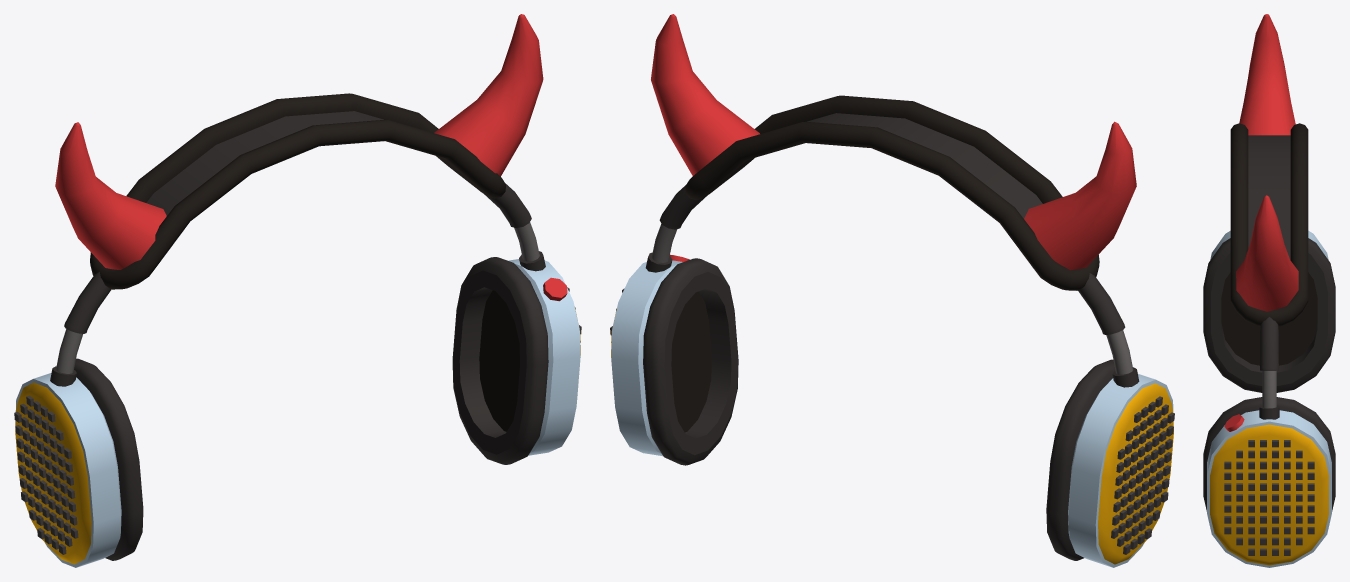
File: Headphones_02_01.fbx
The picture shows the model from 3 angles, left to right: view 1: azimuth 30°, elevation 25°; view 2: azimuth 150°, elevation 25°; view 3: azimuth 270°, elevation 25°; orthographic projection. The views are drawn at different scales.
Parts seen in each view (by area): view 1: Headphones_02_01; view 2: Headphones_02_01; view 3: Headphones_02_01.
Part boxes in pixels (x1,y1,x2,y2): Headphones_02_01: [14, 14, 581, 567]; Headphones_02_01: [610, 14, 1174, 567]; Headphones_02_01: [1203, 14, 1335, 567].
Size of the model in its own units: 47.63 by 38.67 by 12.55.
